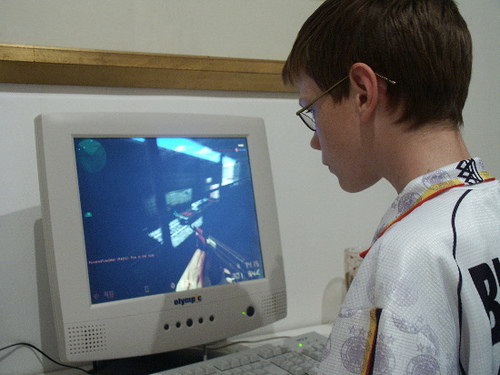without_mask: (289, 48, 416, 196)
